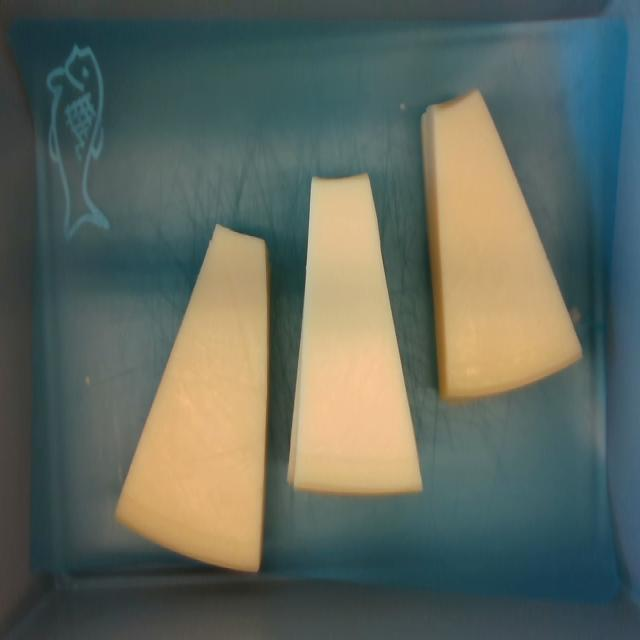cheese: (116, 225, 269, 569), (432, 92, 580, 400), (294, 175, 423, 493)
